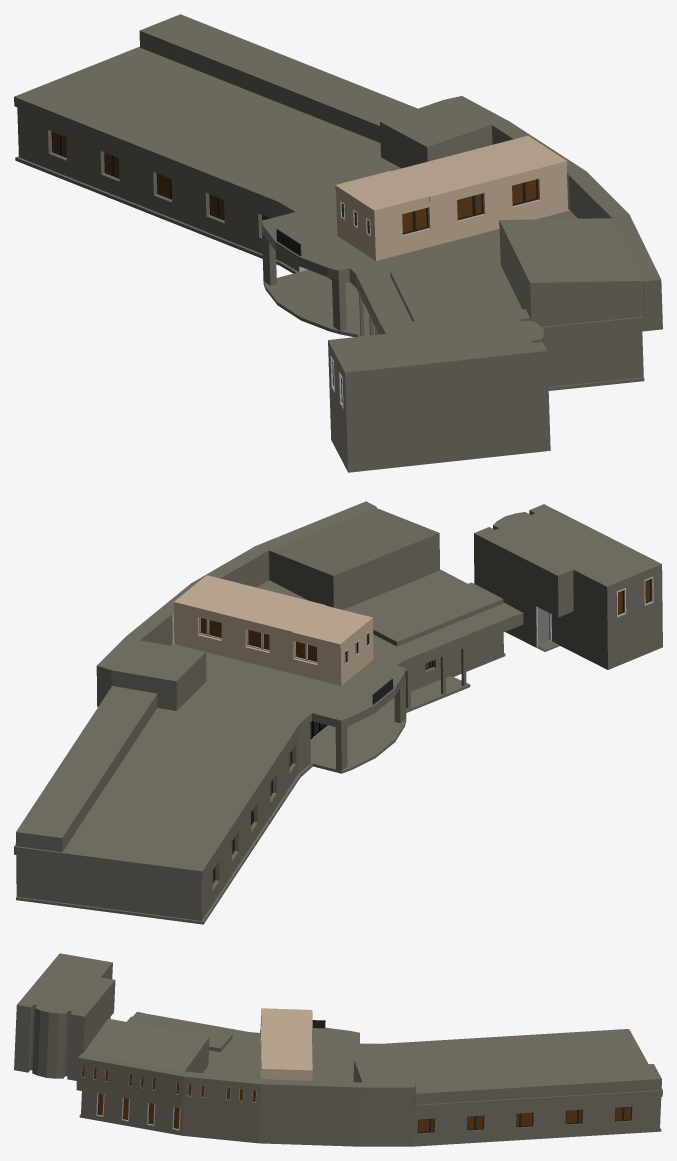
Rendered from facinfo.glb.
3 views of the same model, one above another, from view 1: azimuth 30°, elevation 25°; view 2: azimuth 150°, elevation 25°; view 3: azimuth 270°, elevation 25° (orthographic). The views are drawn at different scales.
Visible parts, largest first — view 1: dep info; view 2: dep info; view 3: dep info.
Part boxes in pixels (box(x1,y1,x2,y2)): dep info: box(14, 14, 662, 472); dep info: box(14, 501, 662, 924); dep info: box(14, 953, 662, 1146).
Size of the model in its own units: 65.63 by 21.78 by 142.
Materials: 1 (1 with a texture image).
